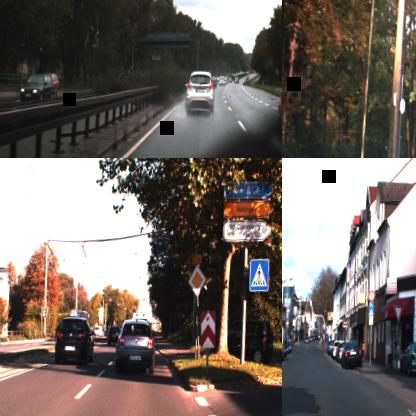give way: (392, 304, 403, 324)
priority road: (186, 263, 207, 297)
speed limit 30: (368, 289, 376, 302)
